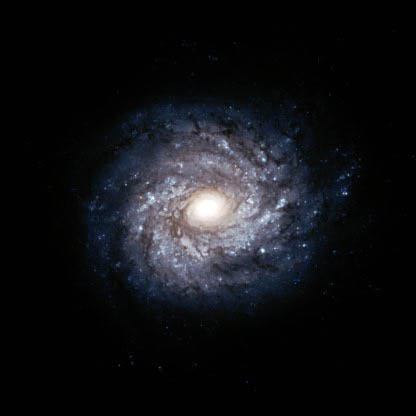NGC 3982: (80, 87, 342, 322)
